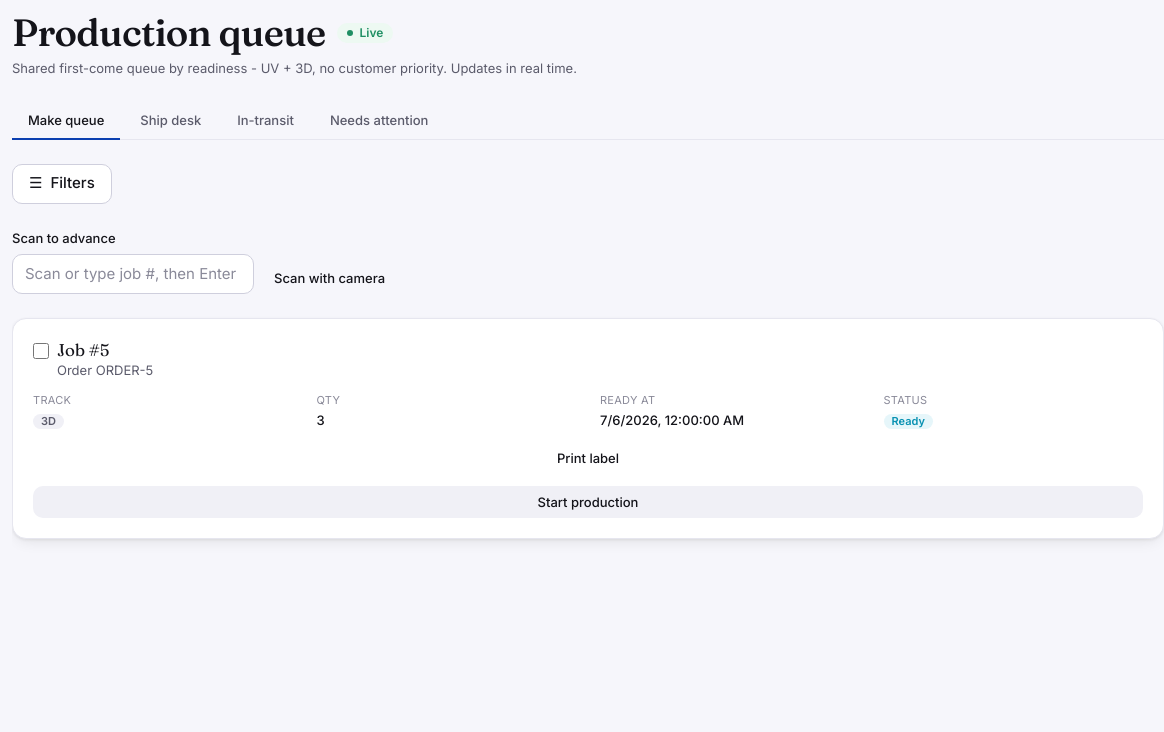
Test: toasts the API error when a scan fails to advance a job
In the field labelled "Scan to advance": [133, 274] box [12,254,254,294], type "5"
Then press Enter
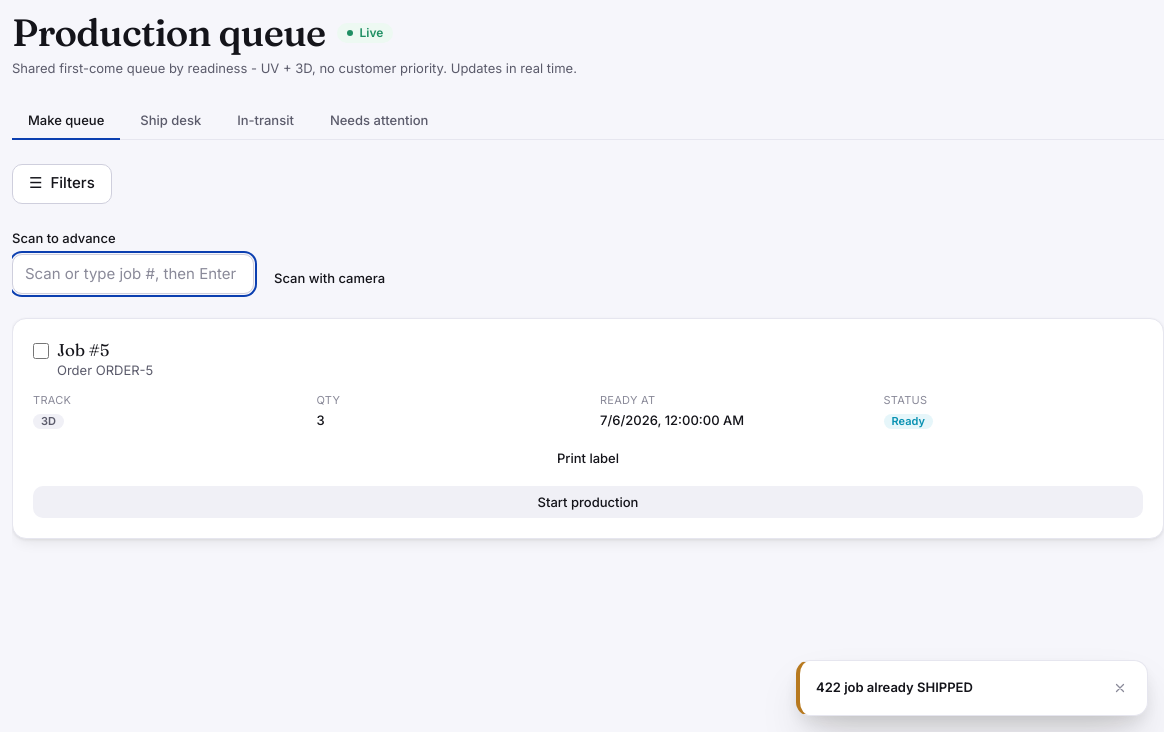
Result: the text "422 job already SHIPPED" is shown at [816,679,973,695]
